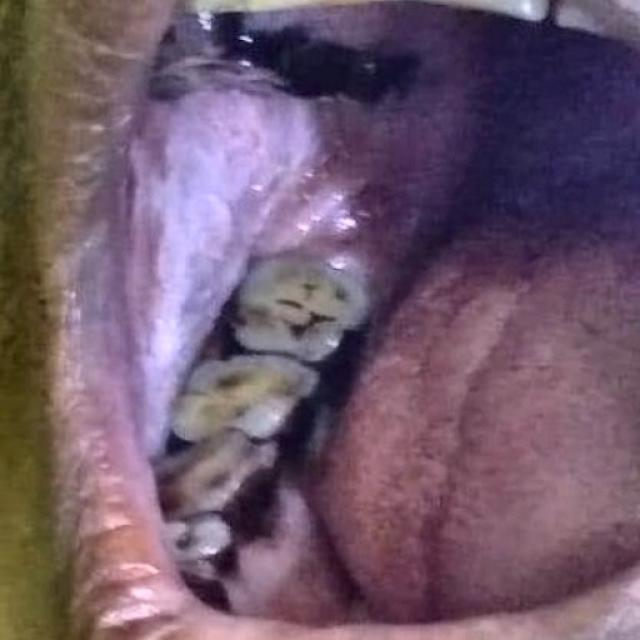cancer-detection: (140, 91, 481, 451)
processing_area: (134, 89, 639, 624)
